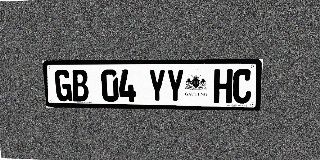0: (101, 69, 119, 102)
4: (118, 69, 136, 102)
B: (71, 70, 89, 102)
C: (232, 69, 253, 103)
G: (54, 70, 72, 101)
H: (213, 69, 233, 103)
Y: (166, 69, 184, 103), (148, 69, 166, 102)
